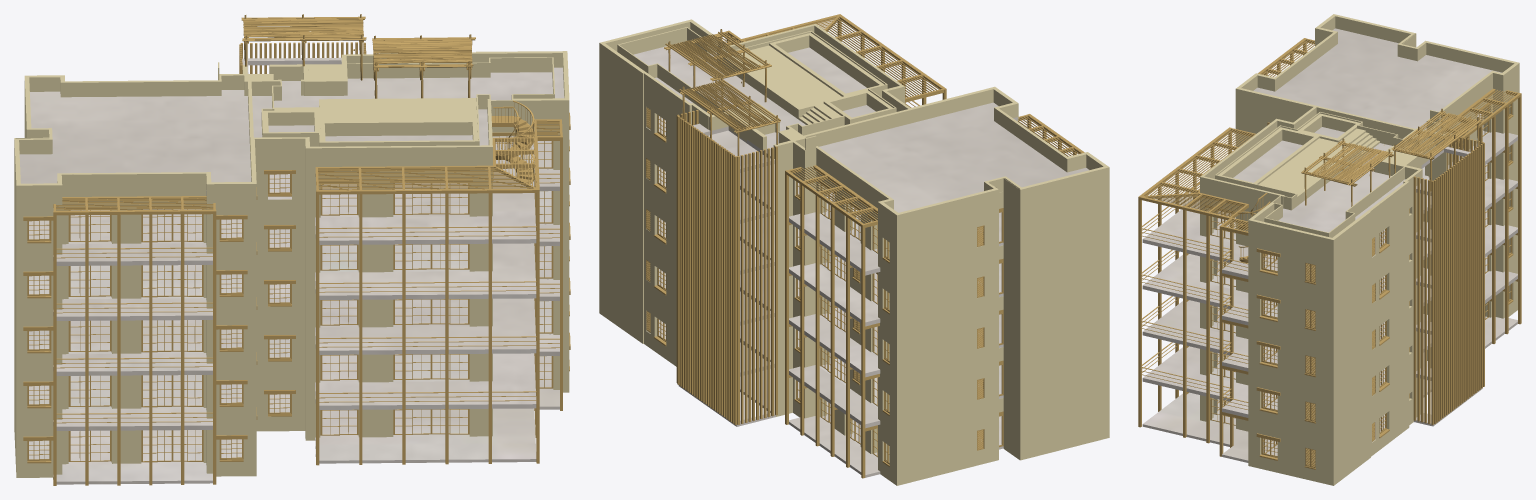
File: Residencial02.glb
3 views of the same model, side by side, from view 1: azimuth 30°, elevation 25°; view 2: azimuth 150°, elevation 25°; view 3: azimuth 270°, elevation 25° (orthographic). The views are drawn at different scales.
Parts seen in each view (by area): view 1: R02W_Floorplates, R02W_Wall, R02W_Wood, R02W_Frames, R02W_Wall02; view 2: R02W_Wall, R02W_Wood, R02W_Floorplates, R02W_Frames, R02W_Wall02; view 3: R02W_Wall, R02W_Wood, R02W_Floorplates, R02W_Frames, R02W_Wall02.
Boxes of the visible parts, x1,y1,x2,y2 form: R02W_Floorplates: (19, 57, 564, 484); R02W_Wall: (14, 51, 569, 477); R02W_Wood: (53, 14, 562, 485); R02W_Frames: (27, 136, 553, 462); R02W_Wall02: (23, 112, 570, 463); R02W_Wall: (599, 19, 1109, 485); R02W_Wood: (646, 14, 1084, 478); R02W_Floorplates: (633, 43, 1089, 477); R02W_Frames: (657, 115, 1003, 464); R02W_Wall02: (654, 132, 1003, 466); R02W_Wall: (1200, 14, 1519, 485); R02W_Wood: (1138, 38, 1521, 467); R02W_Floorplates: (1142, 28, 1517, 462); R02W_Frames: (1210, 98, 1512, 457); R02W_Wall02: (1205, 99, 1513, 469).
Bounding box in the file's own units: 39.84 × 22.36 × 28.54.
Materials: 3 (1 with a texture image).
